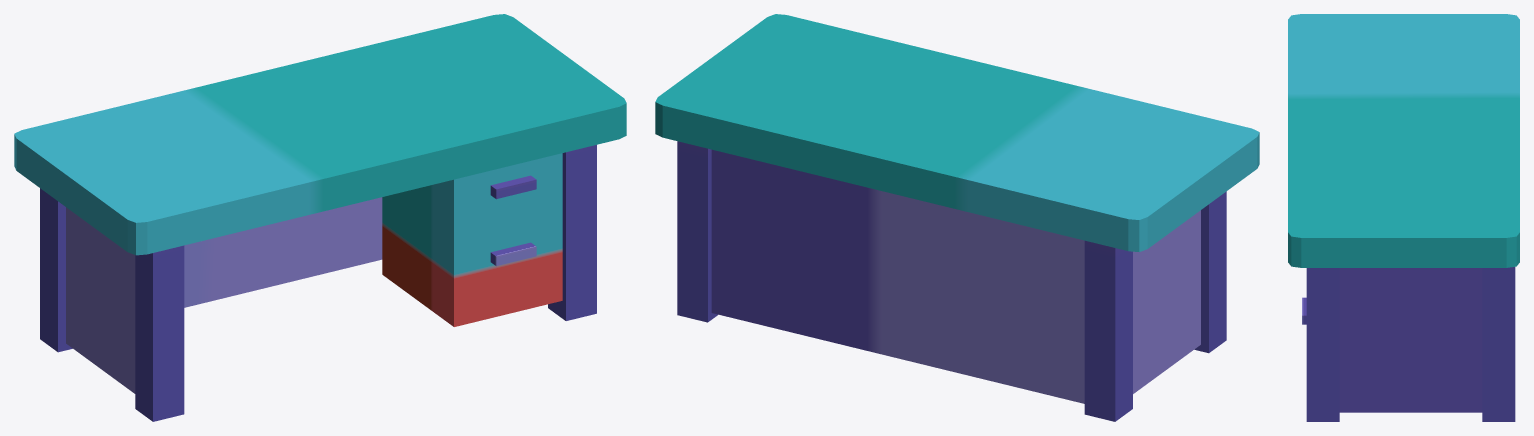
File: Office_Desk.fbx
3 views of the same model, side by side, from view 1: azimuth 30°, elevation 25°; view 2: azimuth 150°, elevation 25°; view 3: azimuth 270°, elevation 25° (orthographic). The views are drawn at different scales.
Visible parts, largest first — view 1: Office_Desk; view 2: Office_Desk; view 3: Office_Desk.
Boxes of the visible parts, box(x1,y1,x2,y2) form: Office_Desk: box(14, 14, 626, 421); Office_Desk: box(655, 14, 1259, 421); Office_Desk: box(1288, 14, 1519, 421).
Bounding box in the file's own units: 180 × 73.18 × 78.8.
